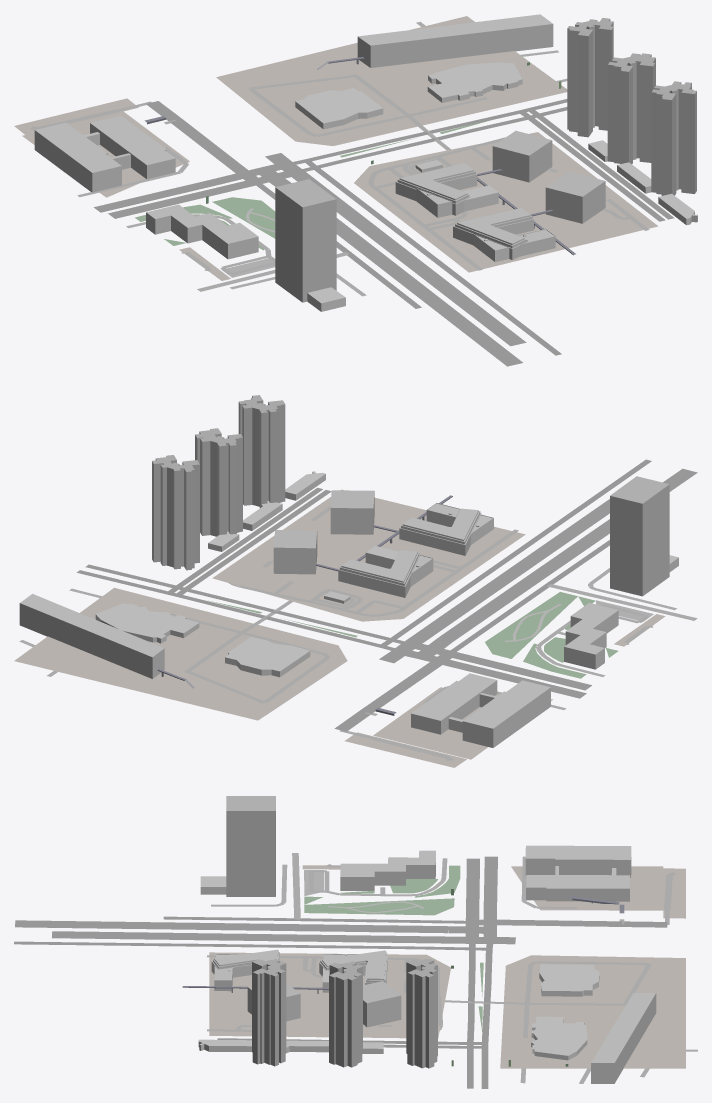
3 renders of one model, top to bottom at view 1: azimuth 30°, elevation 25°; view 2: azimuth 150°, elevation 25°; view 3: azimuth 270°, elevation 25°, orthographic. The views are drawn at different scales.
Bounding box in the file's own units: 579 × 107 × 718.
